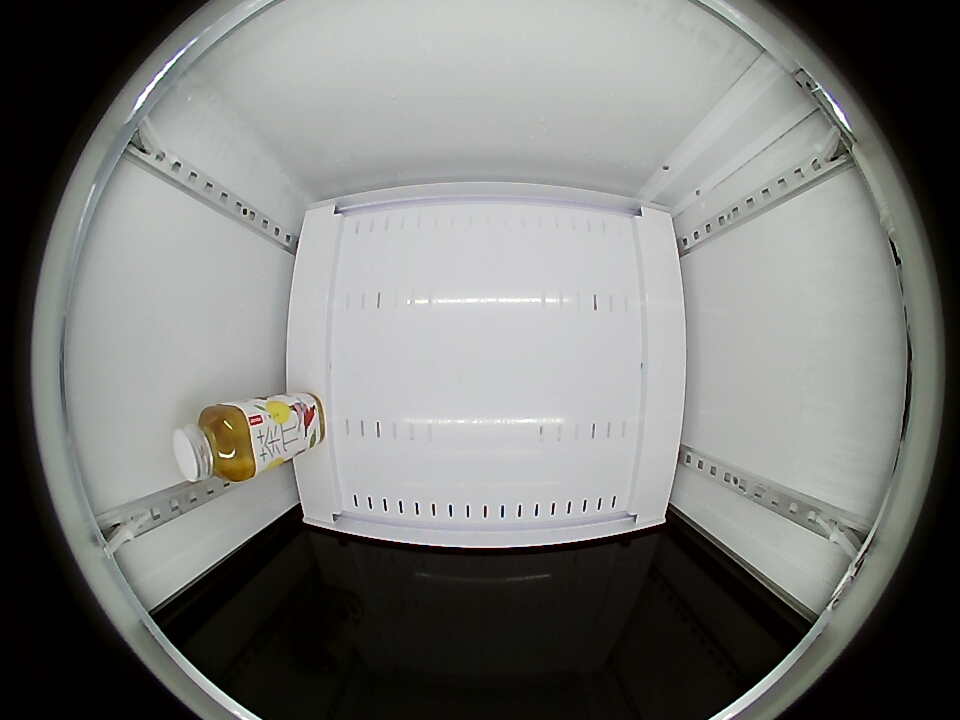chapai: (173, 402, 260, 484)
